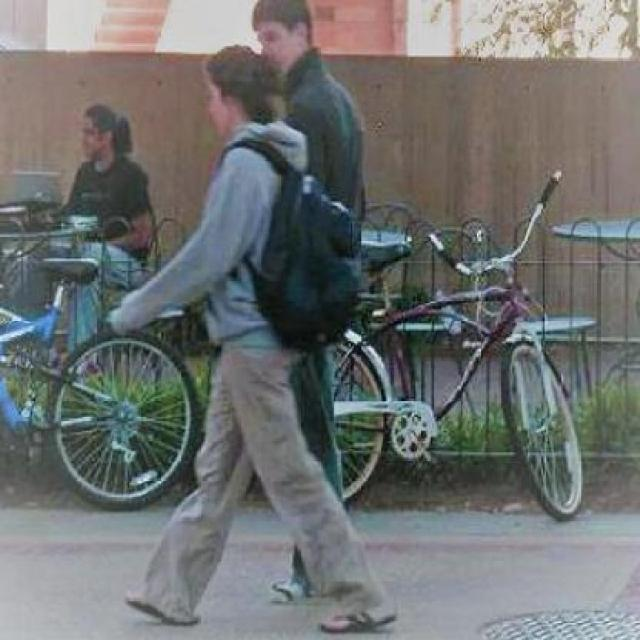Person: (96, 44, 396, 638), (237, 0, 383, 231), (47, 95, 158, 257)
